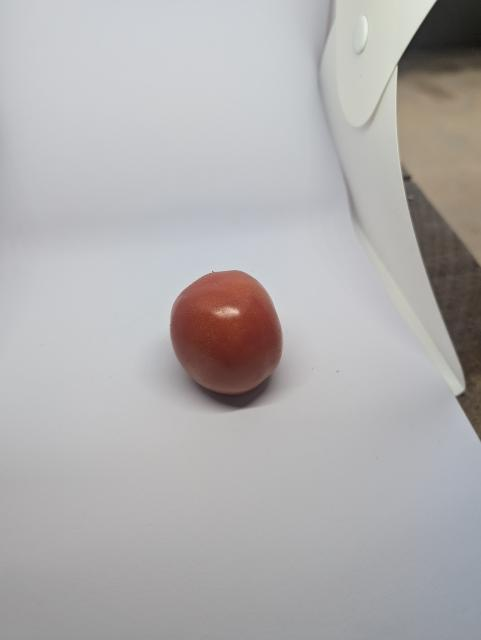red: (163, 262, 294, 406)
